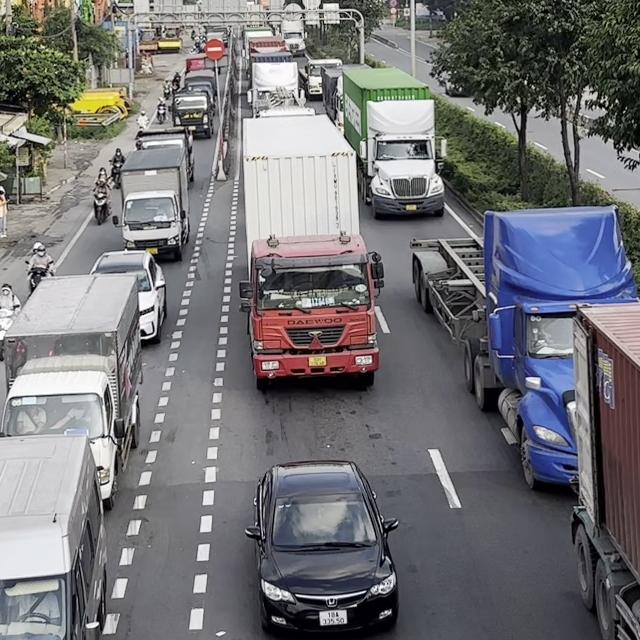car: (244, 459, 400, 636), (0, 428, 109, 639), (88, 248, 167, 344)
motorcycle: (25, 260, 54, 294), (92, 188, 110, 225), (108, 160, 124, 188), (156, 103, 167, 123)
truck: (409, 203, 639, 490), (238, 110, 384, 390), (0, 273, 143, 509), (567, 300, 639, 639), (340, 65, 449, 221), (114, 147, 190, 261), (246, 50, 306, 117), (134, 126, 195, 182), (174, 91, 214, 140), (298, 57, 342, 100)
